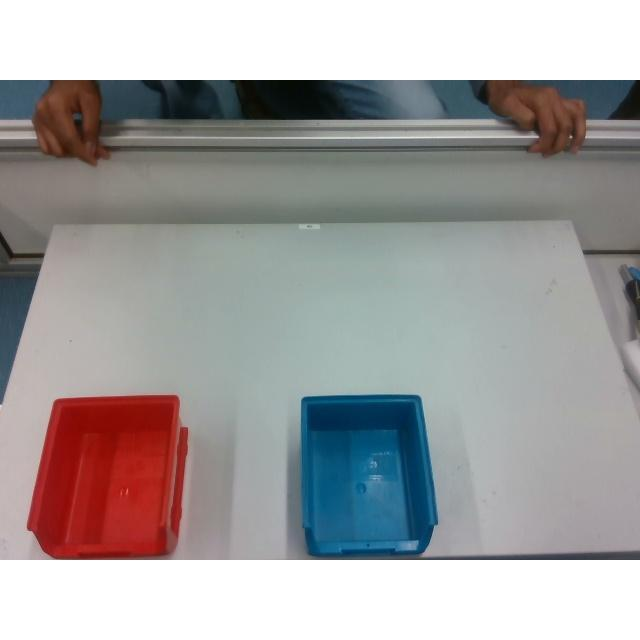container_box_blue: (301, 393, 437, 554)
container_box_red: (28, 394, 188, 558)
